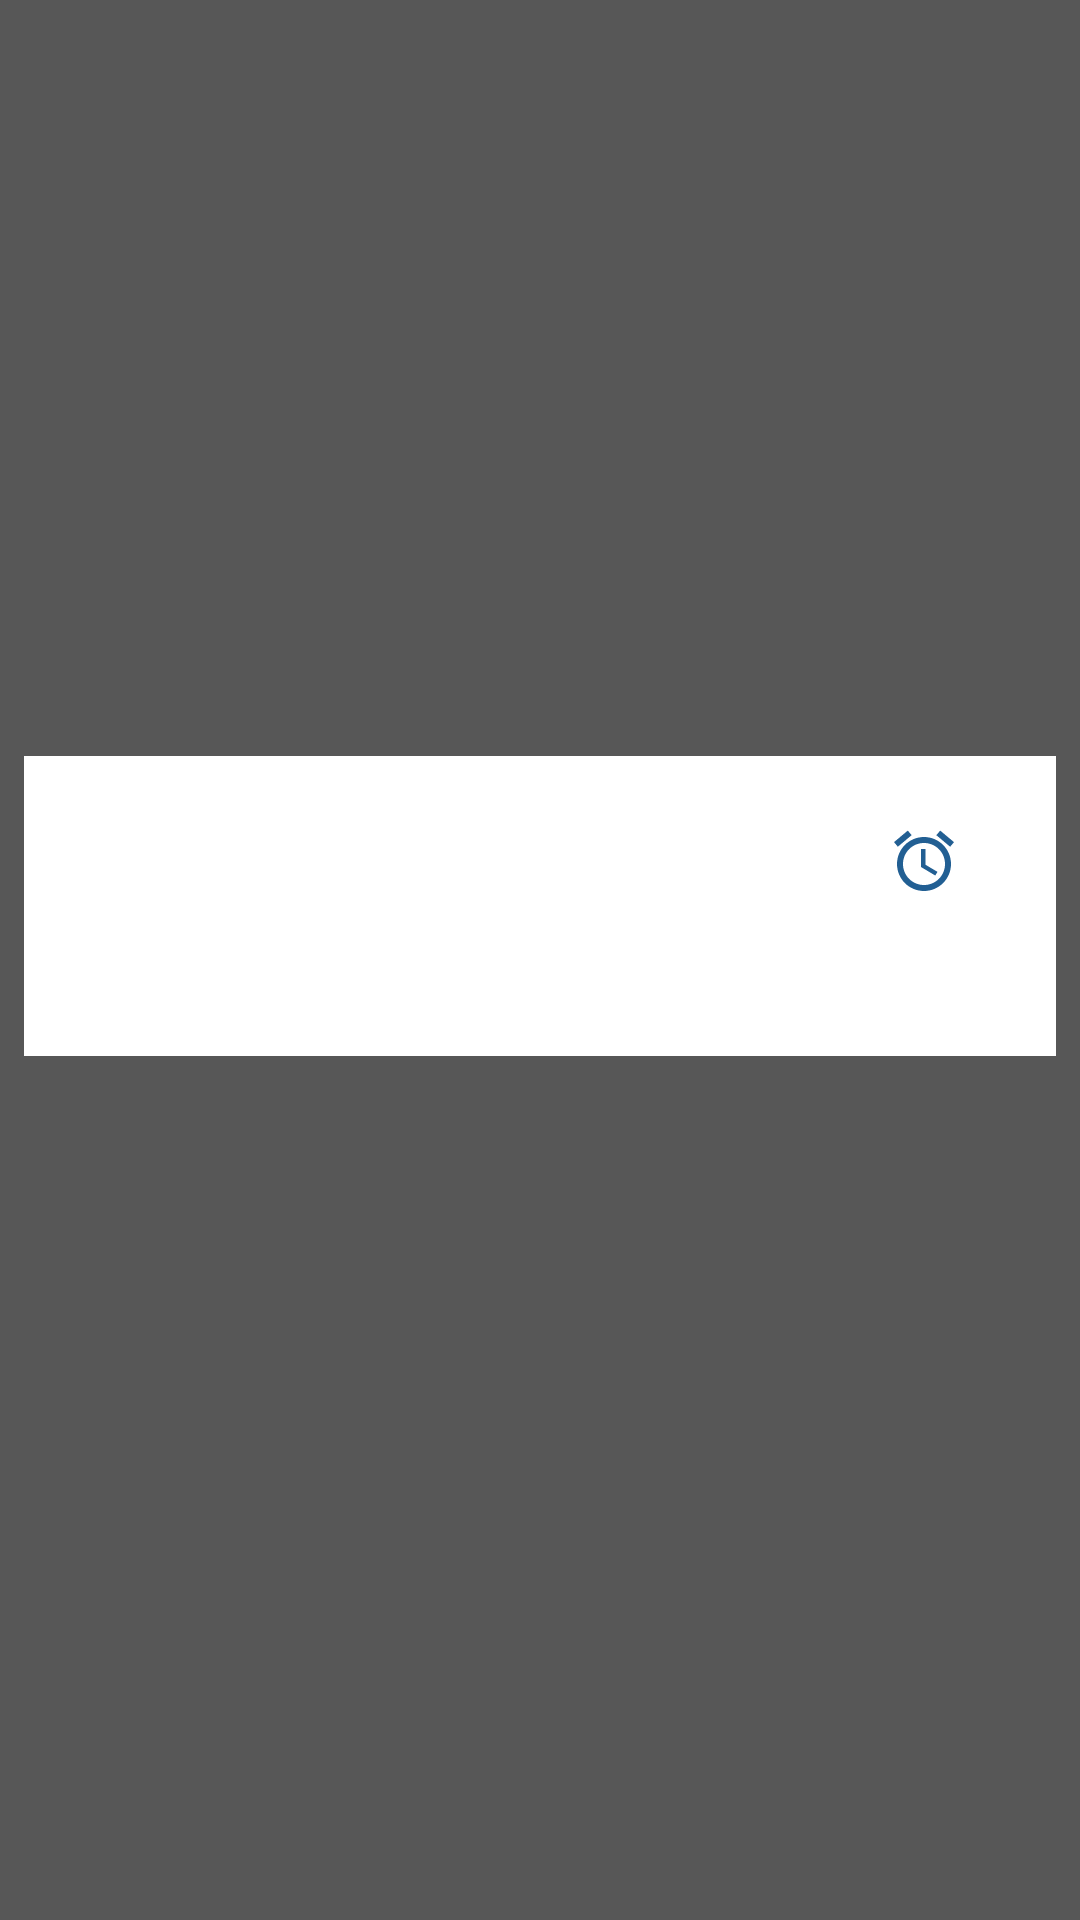

Screen size 1080 x 1920. Icon name, then its center in pixels as (x=x, y=y):
alarm: (x=924, y=860)
